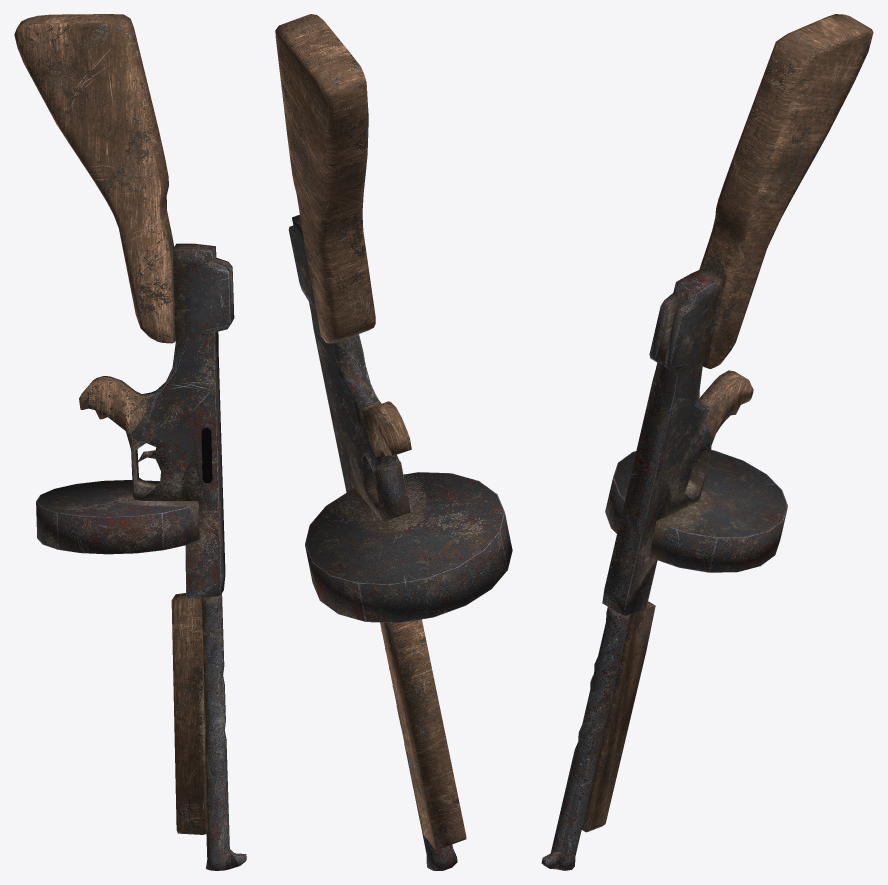
File: Anim_idle_ametralladora_objetos.0024.obj
The picture shows the model from 3 angles, left to right: view 1: azimuth 30°, elevation 25°; view 2: azimuth 150°, elevation 25°; view 3: azimuth 270°, elevation 25°; orthographic projection. The views are drawn at different scales.
Visible parts, largest first — view 1: Ametralladora1; view 2: Ametralladora1; view 3: Ametralladora1.
Boxes of the visible parts, x1,y1,x2,y2 form: Ametralladora1: (14, 14, 246, 870); Ametralladora1: (275, 14, 512, 870); Ametralladora1: (541, 14, 873, 870).
Size of the model in its own units: 1.42 by 5.87 by 2.13.
